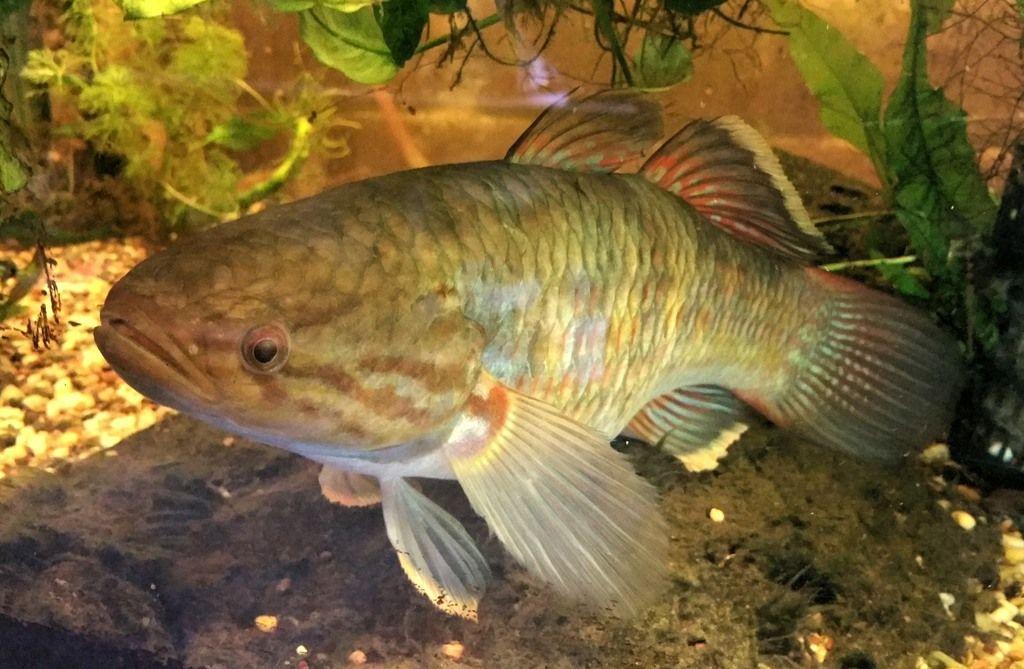Goby: (104, 88, 962, 622)
